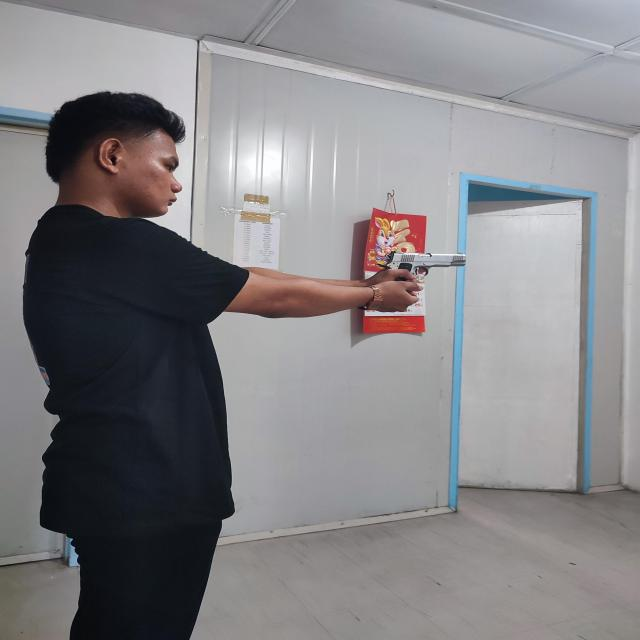pistol: (376, 251, 466, 278)
